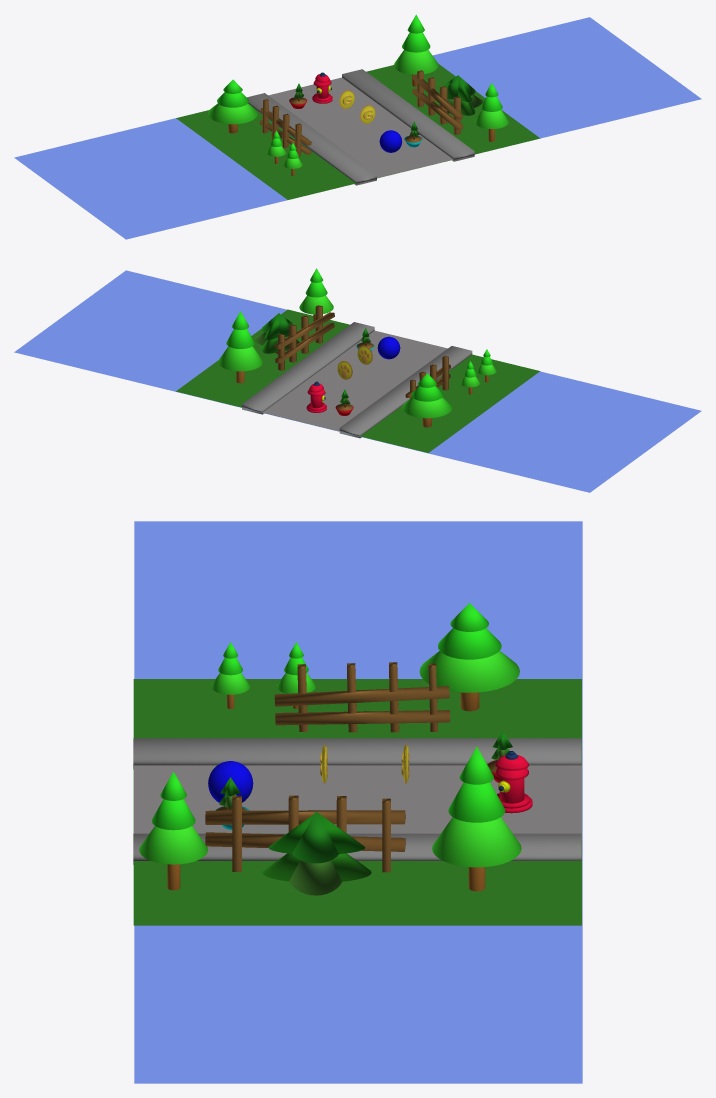
File: camino 03catto.fbx
3 renders of one model, top to bottom at view 1: azimuth 30°, elevation 25°; view 2: azimuth 150°, elevation 25°; view 3: azimuth 270°, elevation 25°, orthographic. The views are drawn at different scales.
Parts seen in each view (by area): view 1: calle, cerca 2 maderas 2.002, Cilindro.008, Cilindro.017, cerca 2 maderas 2.001, Cilindro.015, Cono.007, Hidrante, pelota; view 2: calle, cerca 2 maderas 2.002, Cilindro.008, Cilindro.017, Cilindro.015, Cono.007, cerca 2 maderas 2.001, Hidrante, pelota; view 3: calle, Cilindro.008, cerca 2 maderas 2.001, cerca 2 maderas 2.002, Cilindro.017, Cono.007, Cilindro.015, Hidrante, Cilindro.010, pelota, Cilindro.016.
Part boxes in pixels (bbox=[...]): calle: bbox=[14, 17, 701, 239]; cerca 2 maderas 2.002: bbox=[412, 70, 463, 134]; Cilindro.008: bbox=[394, 14, 438, 86]; Cilindro.017: bbox=[208, 79, 257, 133]; cerca 2 maderas 2.001: bbox=[259, 99, 311, 156]; Cilindro.015: bbox=[474, 83, 508, 141]; Cono.007: bbox=[438, 75, 482, 115]; Hidrante: bbox=[312, 72, 332, 103]; pelota: bbox=[379, 130, 402, 152]; calle: bbox=[14, 270, 701, 492]; cerca 2 maderas 2.002: bbox=[274, 305, 334, 370]; Cilindro.008: bbox=[218, 311, 262, 383]; Cilindro.017: bbox=[402, 373, 452, 427]; Cilindro.015: bbox=[299, 268, 333, 321]; Cono.007: bbox=[254, 313, 302, 353]; cerca 2 maderas 2.001: bbox=[405, 356, 450, 398]; Hidrante: bbox=[306, 381, 326, 412]; pelota: bbox=[377, 336, 400, 359]; calle: bbox=[133, 521, 582, 1083]; Cilindro.008: bbox=[432, 746, 521, 891]; cerca 2 maderas 2.001: bbox=[274, 662, 450, 732]; cerca 2 maderas 2.002: bbox=[205, 795, 405, 872]; Cilindro.017: bbox=[419, 603, 519, 711]; Cono.007: bbox=[262, 812, 371, 895]; Cilindro.015: bbox=[139, 771, 207, 890]; Hidrante: bbox=[495, 751, 532, 813]; Cilindro.010: bbox=[211, 642, 250, 708]; pelota: bbox=[208, 761, 253, 802]; Cilindro.016: bbox=[277, 642, 315, 708].
Size of the model in its own units: 5895 by 779 by 1991.
